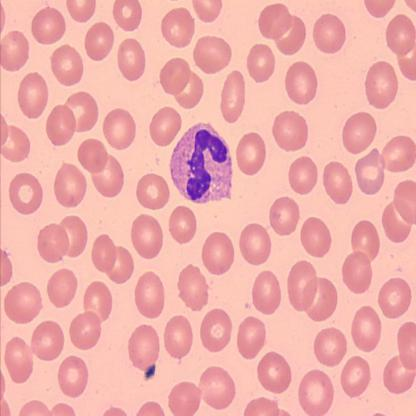Band Neutrophil: (169, 120, 234, 206)
